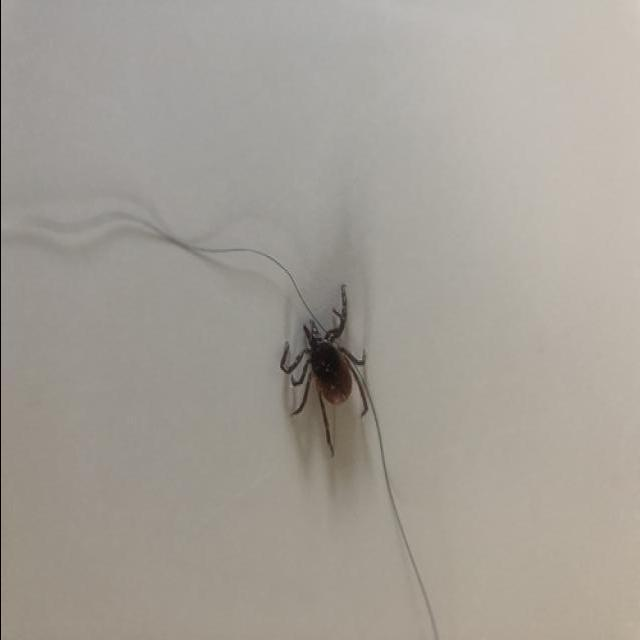Ixodes Ricinus-F: (278, 285, 375, 457)
